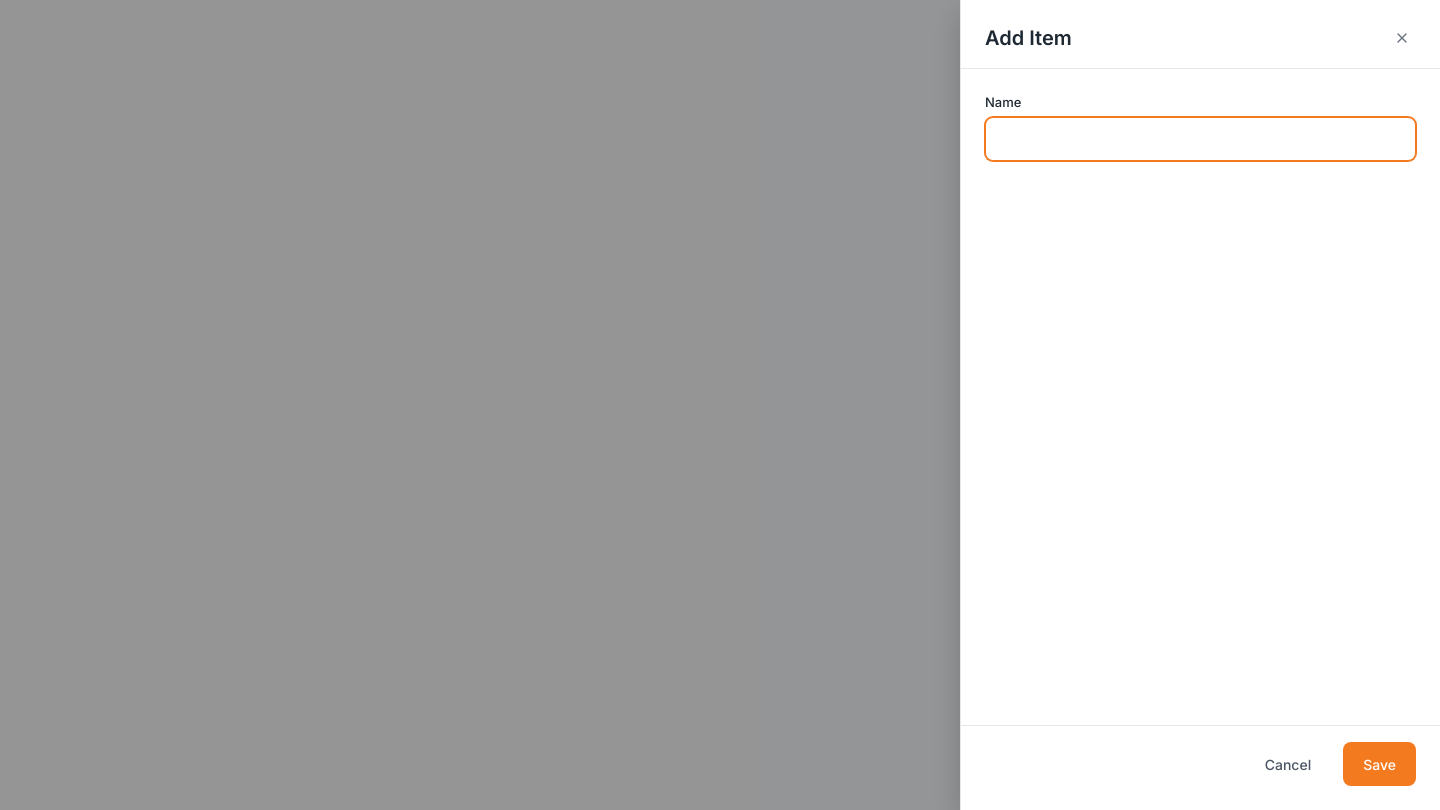
FormDrawer › unsaved changes dialog › shows unsaved changes dialog when closing dirty form
The image size is (1440, 810).
// Dirty the form
Type "dirty" into the field with test id "form-drawer-field-name".
click(1200, 139); type("dirty")  # box x1=985 y1=117 x2=1416 y2=161
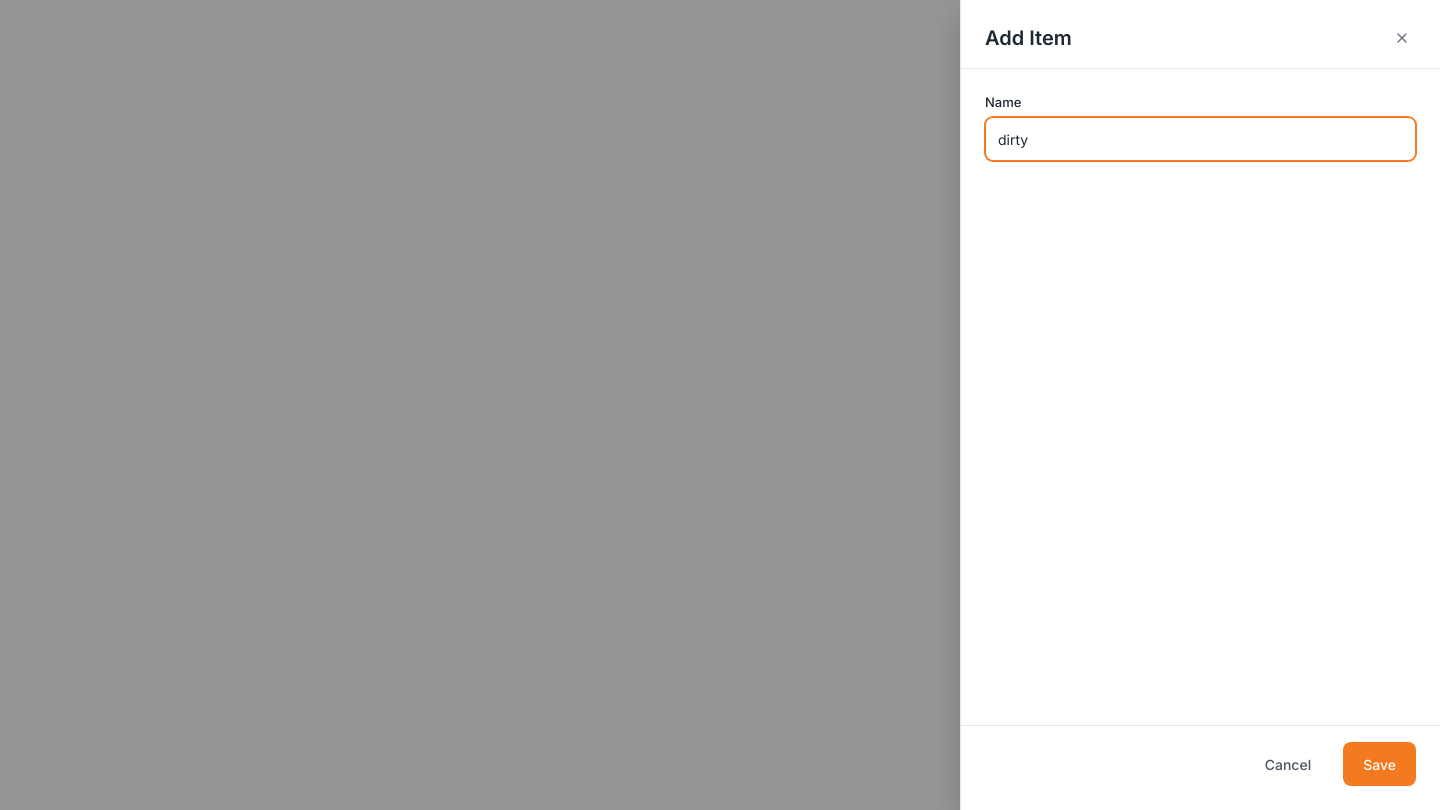
// Try to close
Click the button with test id "form-drawer-close".
click(1402, 38)  # box x1=1388 y1=24 x2=1416 y2=52
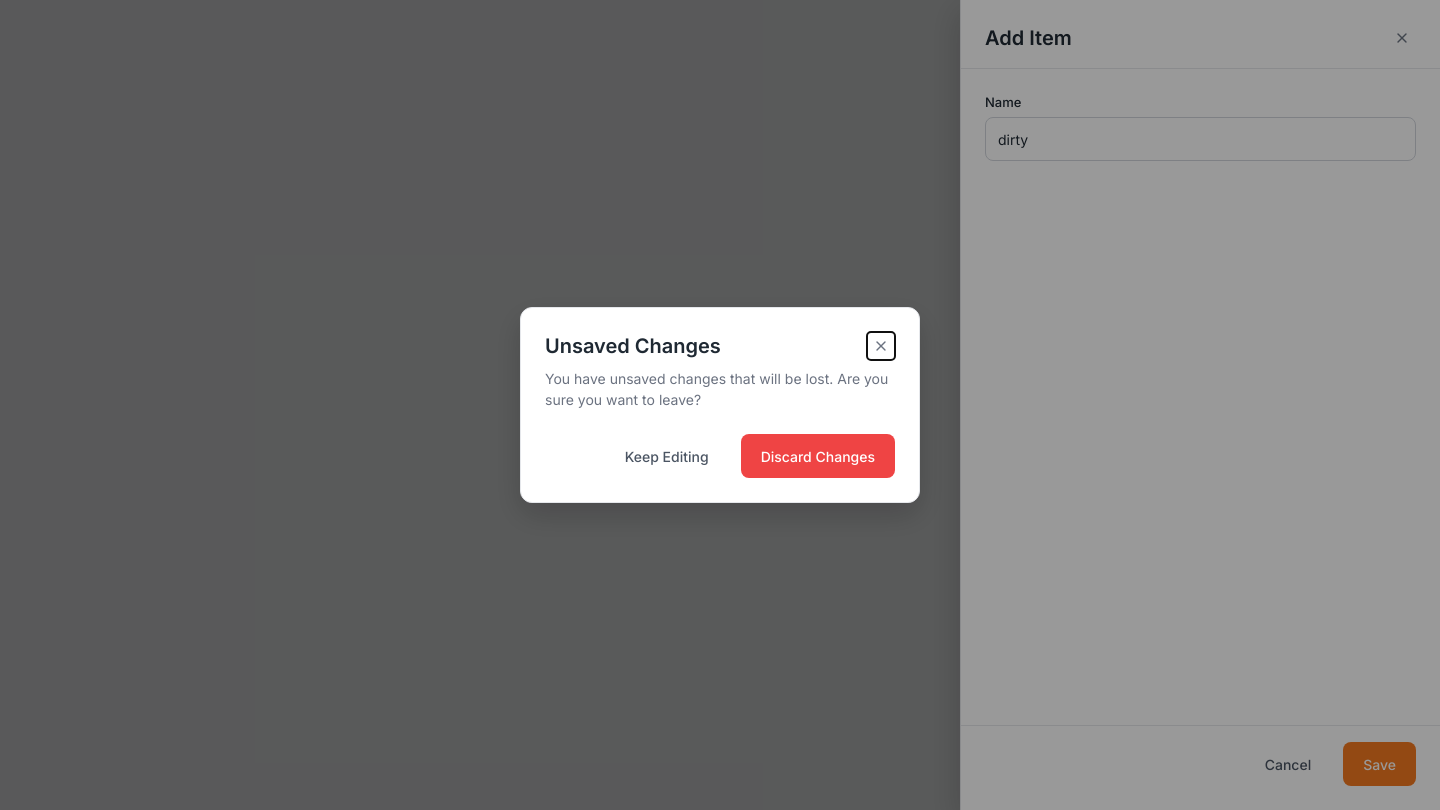
Expected: the heading "Unsaved Changes" is shown, x1=545 y1=332 x2=721 y2=360
